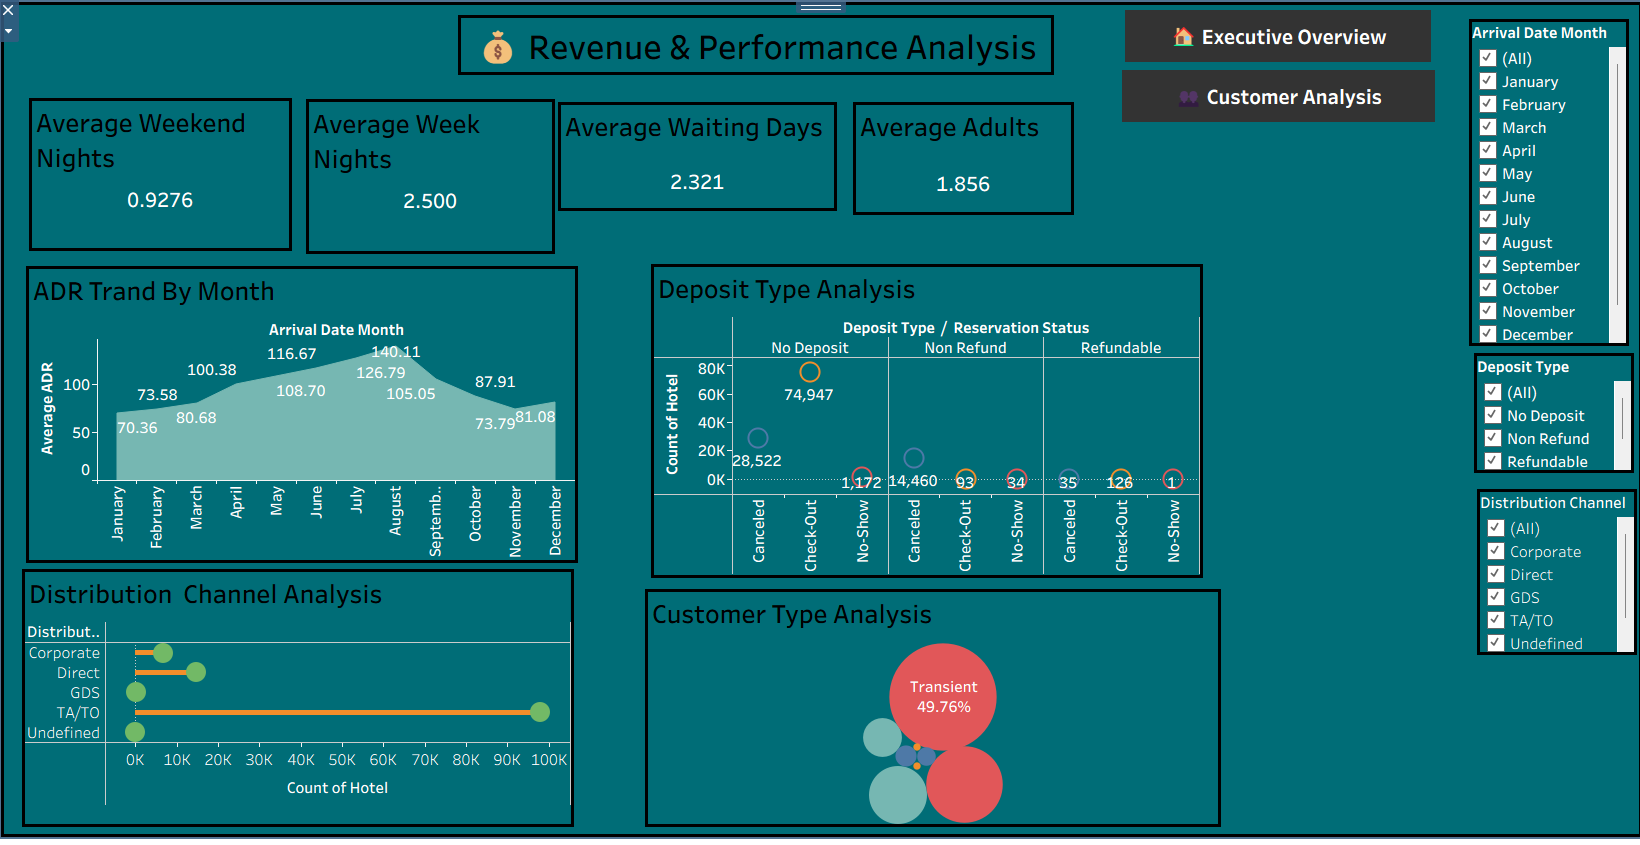

What the dashboard file says about the page in this screenshot:
{"tool":"tableau","page":{"name":"Dashboard 3 - Revenue & Performance Analysis","canvas":[1000,1000],"units":"permille","ordinal":2},"visuals":[{"type":"dashboard-object","box":[683.2,18.8,184.7,61.1]},{"type":"text","box":[280.6,24.7,359.7,70.5]},{"type":"filter","title":"ADR Trend by Month","param":"[federated.0a99urz0fhxp8b12dro9z075rd1u].[none:arrival_date_month:nk]","box":[890.8,29.4,96.6,384.2]},{"type":"dashboard-object","box":[681.4,89.3,188.9,61.1]},{"type":"worksheet","title":"KPI - Avg Weekend Nights","mark":"Automatic","box":[21.7,122.2,158.7,179.8]},{"type":"worksheet","title":"KPI - Avg Week Nights","mark":"Automatic","box":[188.9,123.4,150.3,182.1]},{"type":"worksheet","title":"KPI - Avg Waiting Days","mark":"Automatic","box":[341,126.9,168.4,128.1]},{"type":"worksheet","title":"KPI - Avg Adults","mark":"Automatic","box":[519,126.9,133.4,132.8]},{"type":"worksheet","title":"Deposit Type Analysis","mark":"Shape","rows":["hotel"],"cols":["deposit_type","reservation_status"],"box":[397.1,317.3,333.1,369]},{"type":"worksheet","title":"ADR Trend by Month","mark":"Area","rows":["Calculation_1199867283656713"],"cols":["arrival_date_month"],"box":[19.9,319.6,333.1,349]},{"type":"filter","title":"Deposit Type Analysis","param":"[federated.0a99urz0fhxp8b12dro9z075rd1u].[none:deposit_type:nk]","box":[893.8,421.9,96.6,141]},{"type":"filter","title":"Distribution Channel Analysis","param":"[federated.0a99urz0fhxp8b12dro9z075rd1u].[none:distribution_channel:nk]","box":[895.6,581.7,96.6,195.1]},{"type":"worksheet","title":"Distribution Channel Analysis","mark":"Automatic","rows":["distribution_channel"],"cols":["hotel","hotel"],"box":[17.5,675.7,333.1,303.2]},{"type":"worksheet","title":"Customer Type Analysis","mark":"Circle","box":[393.5,699.2,347.6,279.7]}]}

Visuals, with their boxes on the dashboard's canvas, which has no fixed pixel size, in thousandths of its width and height (x1, y1, x2, y2). These are canvas units, not pixel positions in the 1640x845 screenshot, which may show the page scaled, cropped or inside an application window:
dashboard-object: 683, 19, 868, 80
text: 281, 25, 640, 95
"ADR Trend by Month" filter: 891, 29, 987, 414
dashboard-object: 681, 89, 870, 150
"KPI - Avg Weekend Nights" worksheet: 22, 122, 180, 302
"KPI - Avg Week Nights" worksheet: 189, 123, 339, 306
"KPI - Avg Waiting Days" worksheet: 341, 127, 509, 255
"KPI - Avg Adults" worksheet: 519, 127, 652, 260
"Deposit Type Analysis" worksheet (Shape marks): 397, 317, 730, 686
"ADR Trend by Month" worksheet (Area marks): 20, 320, 353, 669
"Deposit Type Analysis" filter: 894, 422, 990, 563
"Distribution Channel Analysis" filter: 896, 582, 992, 777
"Distribution Channel Analysis" worksheet: 18, 676, 351, 979
"Customer Type Analysis" worksheet (Circle marks): 394, 699, 741, 979
